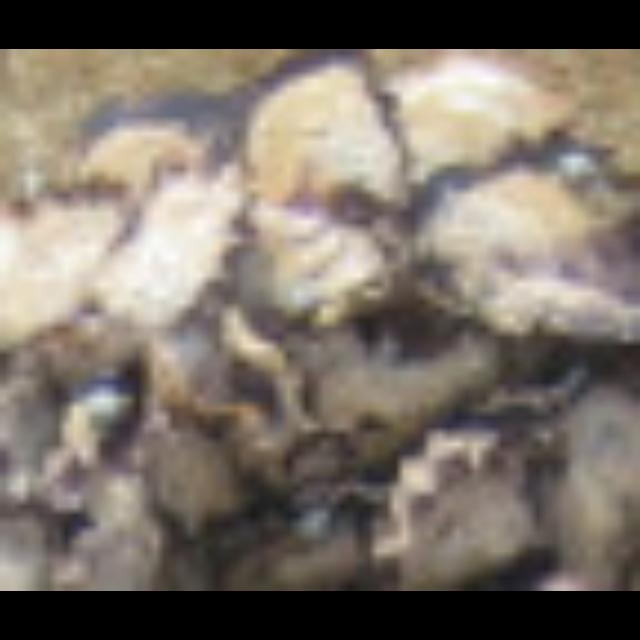Oyster-Closed: (411, 170, 598, 309), (249, 63, 411, 209), (242, 205, 411, 332), (326, 342, 507, 456), (388, 61, 562, 179), (0, 198, 128, 354), (109, 170, 239, 319), (560, 387, 640, 591), (215, 508, 367, 591), (478, 277, 640, 339)
Oyster-Open: (377, 424, 542, 591)
